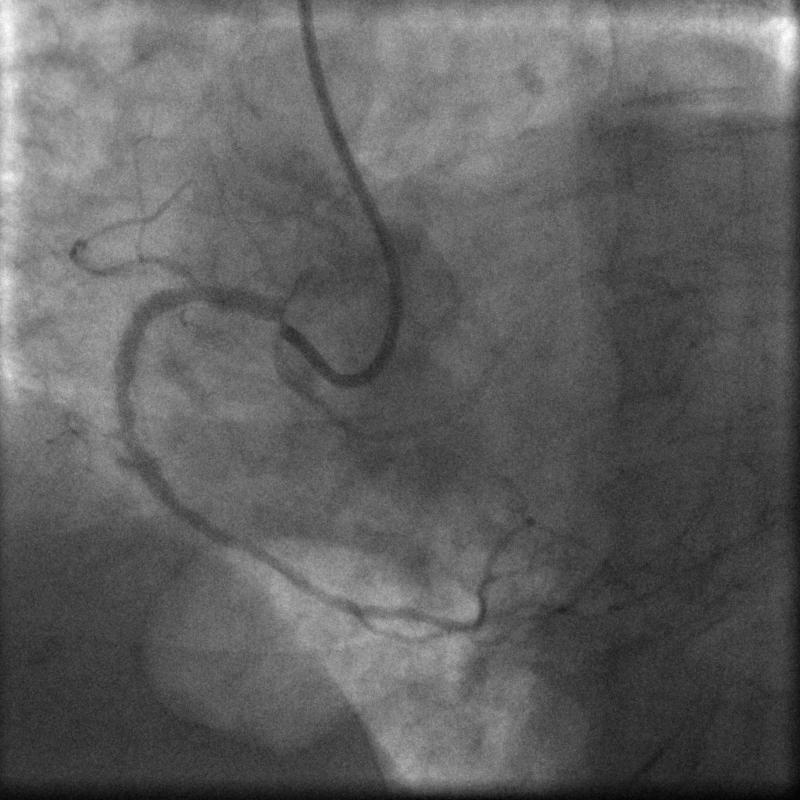Stenosis: (109, 378, 140, 441)
